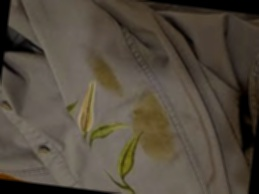earth: (132, 96, 167, 131), (91, 58, 116, 85), (144, 131, 171, 155)
